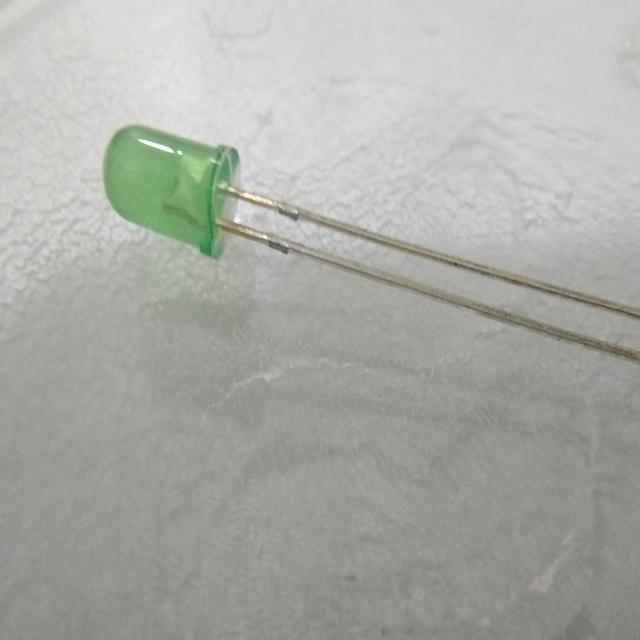green_led: (97, 110, 246, 275)
